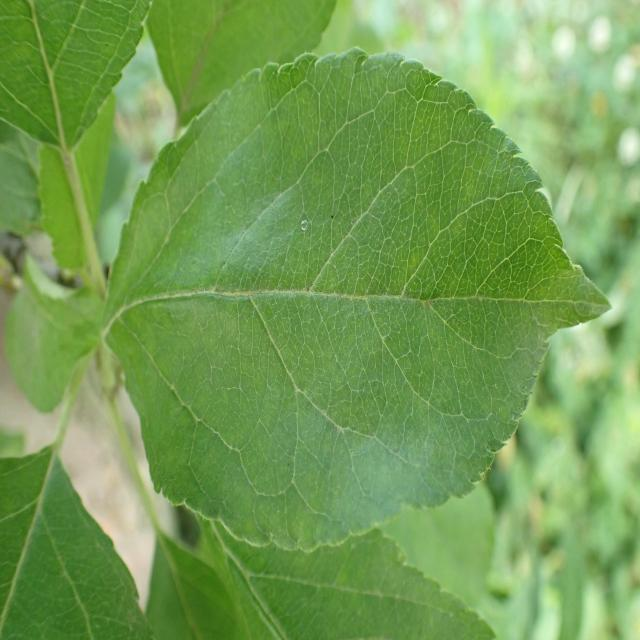healthy: (105, 48, 612, 551), (212, 522, 496, 640), (0, 443, 155, 640), (146, 0, 338, 129), (0, 0, 153, 150), (145, 529, 250, 639)
